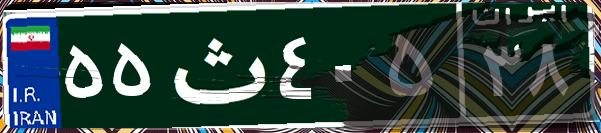0: (330, 28, 385, 110)
3: (475, 38, 525, 113)
4: (273, 28, 330, 110)
5: (385, 28, 445, 110), (57, 26, 110, 107), (110, 28, 158, 105)
8: (525, 38, 570, 115)
ث: (158, 15, 273, 115)
